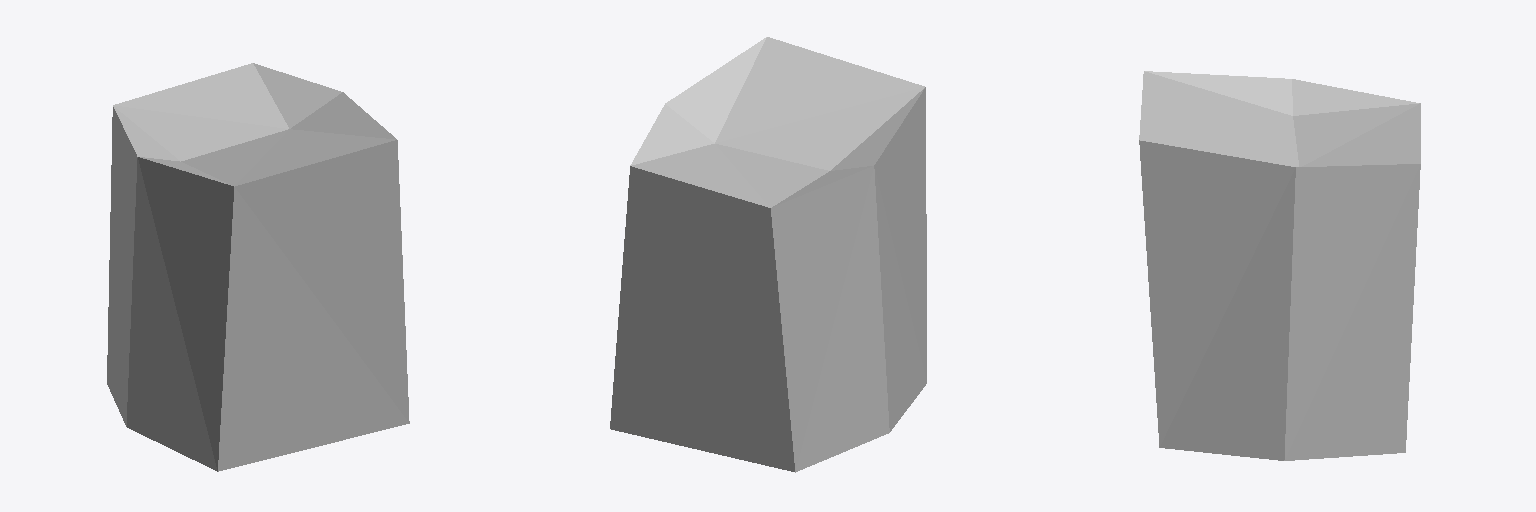
Rendered from bag1.obj.
3 views of the same model, side by side, from view 1: azimuth 30°, elevation 25°; view 2: azimuth 150°, elevation 25°; view 3: azimuth 270°, elevation 25° (orthographic).
Parts seen in each view (by area): view 1: bag_Cube.001; view 2: bag_Cube.001; view 3: bag_Cube.001.
Part boxes in pixels (x1,y1,x2,y2): bag_Cube.001: (107,63,409,471); bag_Cube.001: (610,37,926,472); bag_Cube.001: (1139,71,1420,460).
Size of the model in its own units: 4.42 by 5.05 by 4.29.